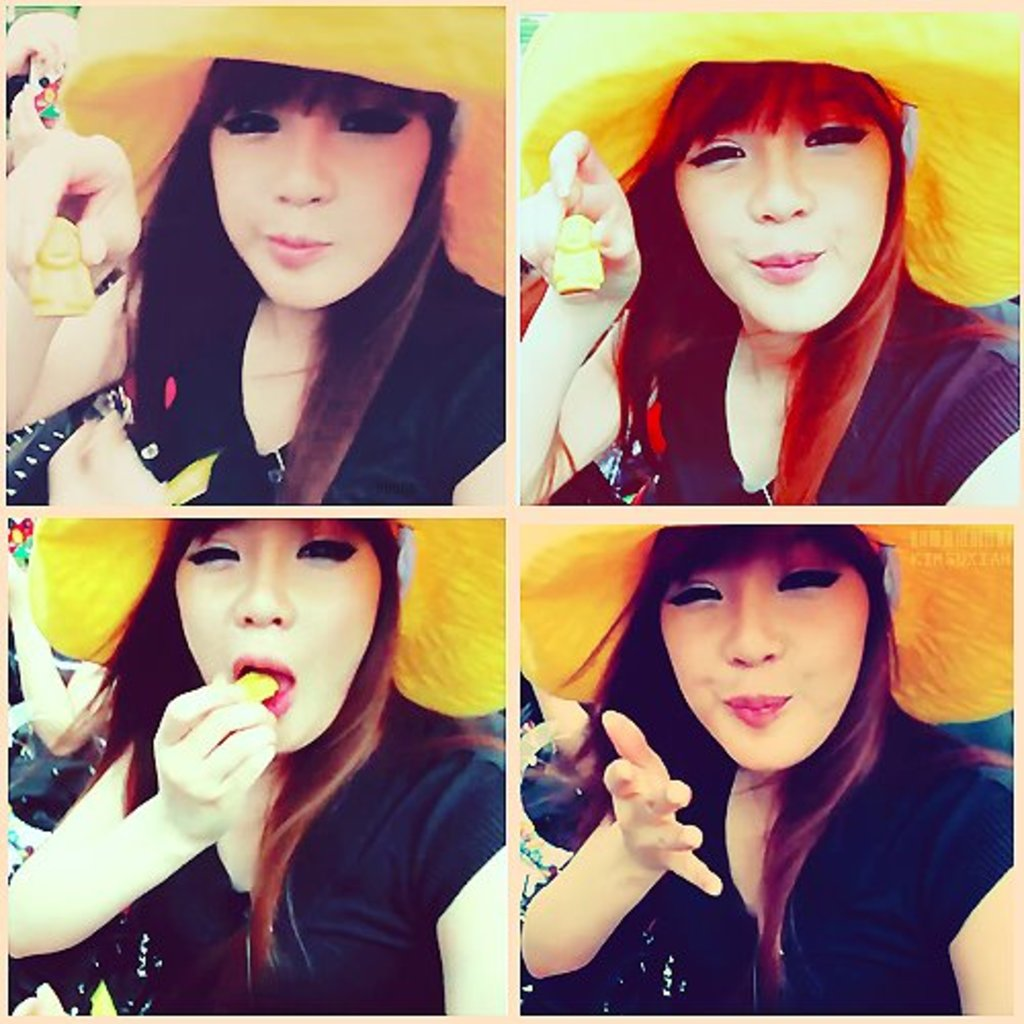Human-face: (668, 55, 903, 344), (655, 514, 874, 780), (203, 49, 420, 317), (170, 500, 385, 752)
